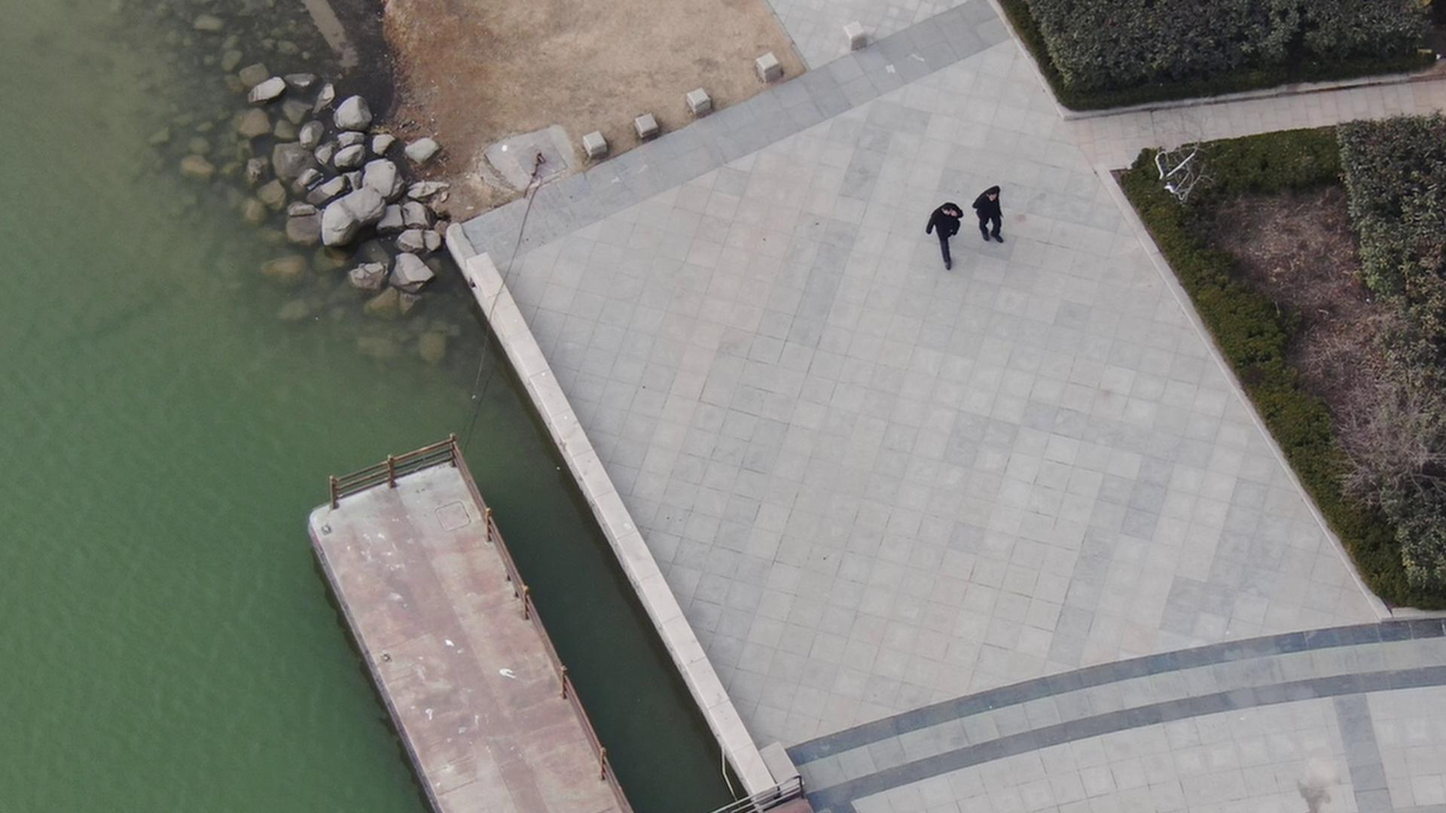human: (907, 190, 956, 262), (952, 170, 993, 242)
